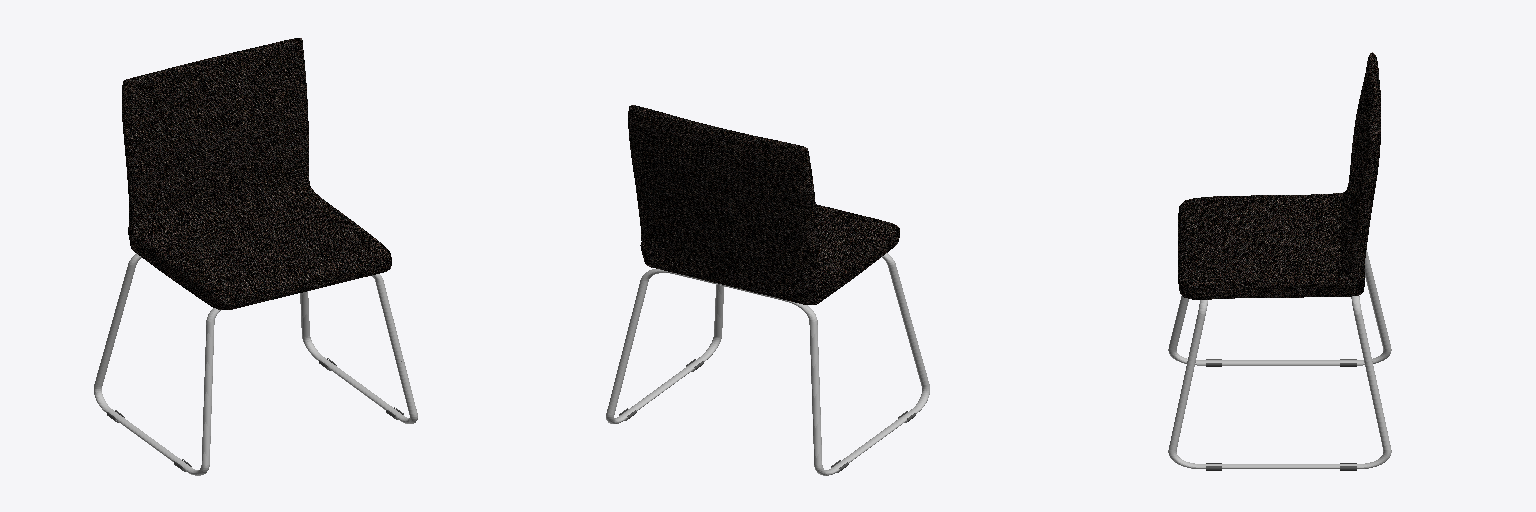
3 renders of one model, left to right at view 1: azimuth 30°, elevation 25°; view 2: azimuth 150°, elevation 25°; view 3: azimuth 270°, elevation 25°, orthographic.
Visible parts, largest first — view 1: Mesh6 Group4 Group1 Model, Mesh5 Component_156_1 Group3 Group2 Group1 Model; view 2: Mesh6 Group4 Group1 Model, Mesh5 Component_156_1 Group3 Group2 Group1 Model; view 3: Mesh6 Group4 Group1 Model, Mesh5 Component_156_1 Group3 Group2 Group1 Model.
Part boxes in pixels (x1,y1,x2,y2): Mesh6 Group4 Group1 Model: (122, 38, 391, 309); Mesh5 Component_156_1 Group3 Group2 Group1 Model: (94, 253, 417, 475); Mesh6 Group4 Group1 Model: (628, 105, 899, 304); Mesh5 Component_156_1 Group3 Group2 Group1 Model: (606, 253, 929, 475); Mesh6 Group4 Group1 Model: (1178, 52, 1380, 299); Mesh5 Component_156_1 Group3 Group2 Group1 Model: (1168, 250, 1391, 468).
Bounding box in the file's own units: 21.71 × 30.37 × 18.91.
Materials: 3 (1 with a texture image).